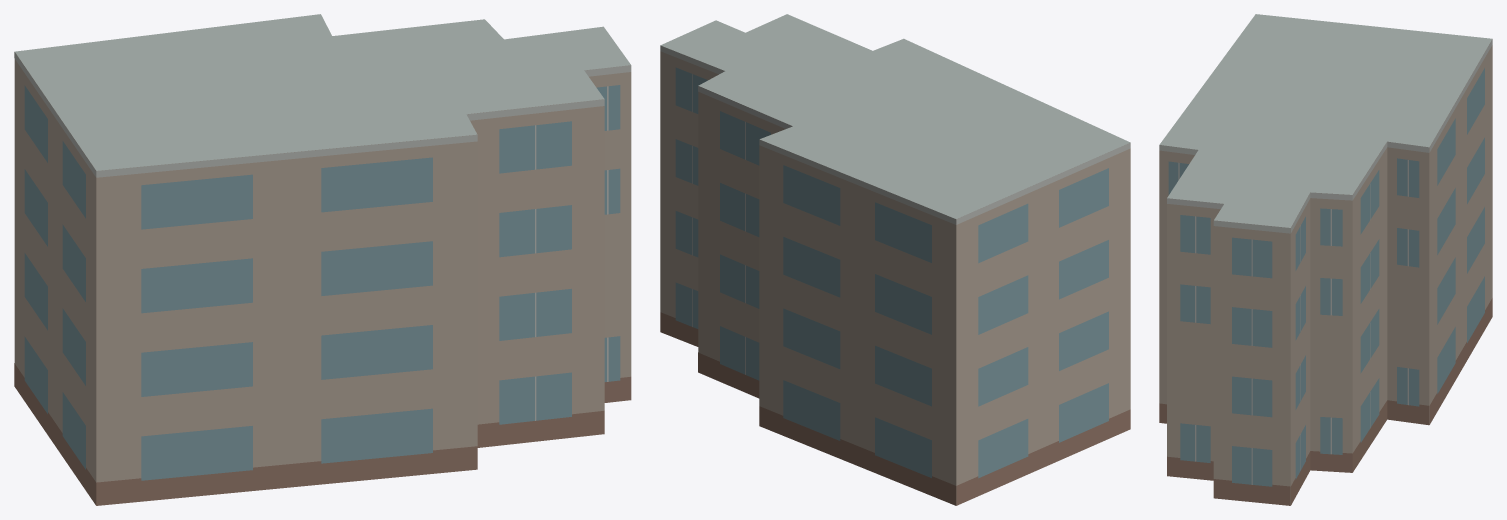
File: survey-upis-32803013.glb
The picture shows the model from 3 angles, left to right: view 1: azimuth 30°, elevation 25°; view 2: azimuth 150°, elevation 25°; view 3: azimuth 270°, elevation 25°; orthographic projection. The views are drawn at different scales.
Parts seen in each view (by area): view 1: survey-upis-32803013.tmp; view 2: survey-upis-32803013.tmp; view 3: survey-upis-32803013.tmp.
Boxes of the visible parts, x1=… form: survey-upis-32803013.tmp: x1=14, y1=14, x2=631, y2=505; survey-upis-32803013.tmp: x1=660, y1=14, x2=1130, y2=505; survey-upis-32803013.tmp: x1=1159, y1=14, x2=1492, y2=505.
Size of the model in its own units: 19.83 by 12 by 13.05.
